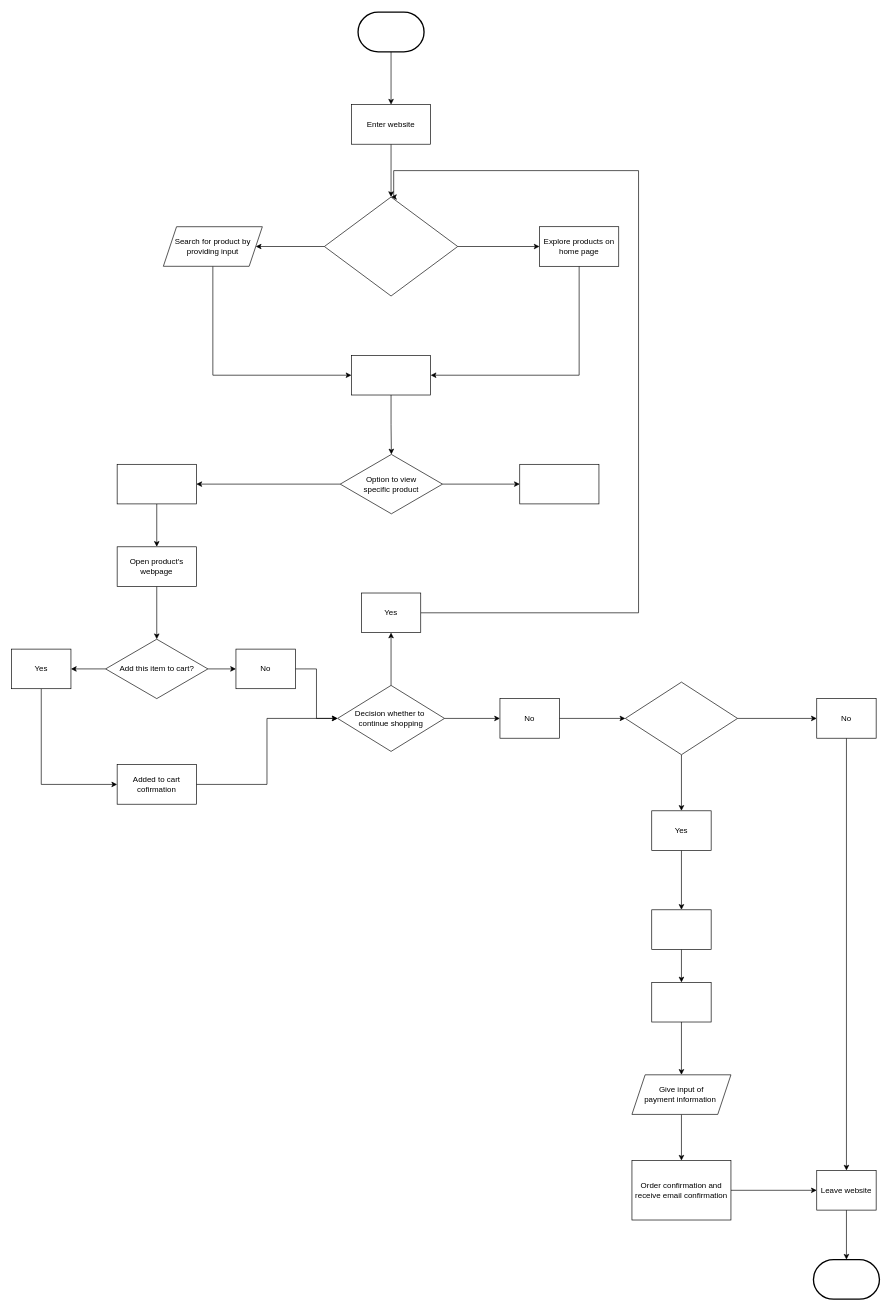
This 892x1311 diagram has some shape labels left out. Each missing label, with the box of its shape:
Decision to checkout or not: (625, 681, 738, 755)
Don't view product: (519, 464, 599, 504)
End: (812, 1259, 880, 1300)
Look over products: (351, 355, 431, 395)
Search for product or explore products on home page?: (324, 196, 458, 296)
Start: (357, 11, 424, 52)
View Cart Screen: (651, 909, 711, 949)
View Payment Screen: (651, 982, 711, 1022)
View product: (116, 464, 196, 504)
